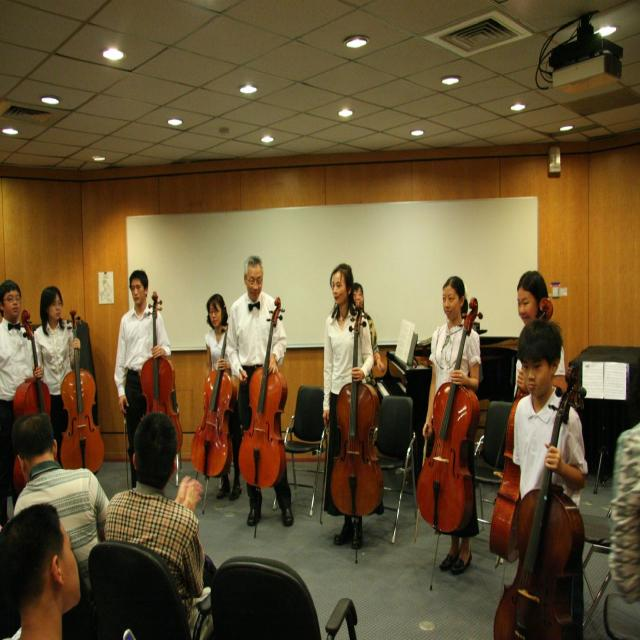cello: (490, 377, 586, 640), (487, 296, 552, 570), (414, 295, 486, 539), (329, 303, 384, 517), (236, 297, 292, 487), (58, 306, 104, 482), (14, 308, 54, 492), (139, 290, 183, 454), (189, 325, 234, 477)
